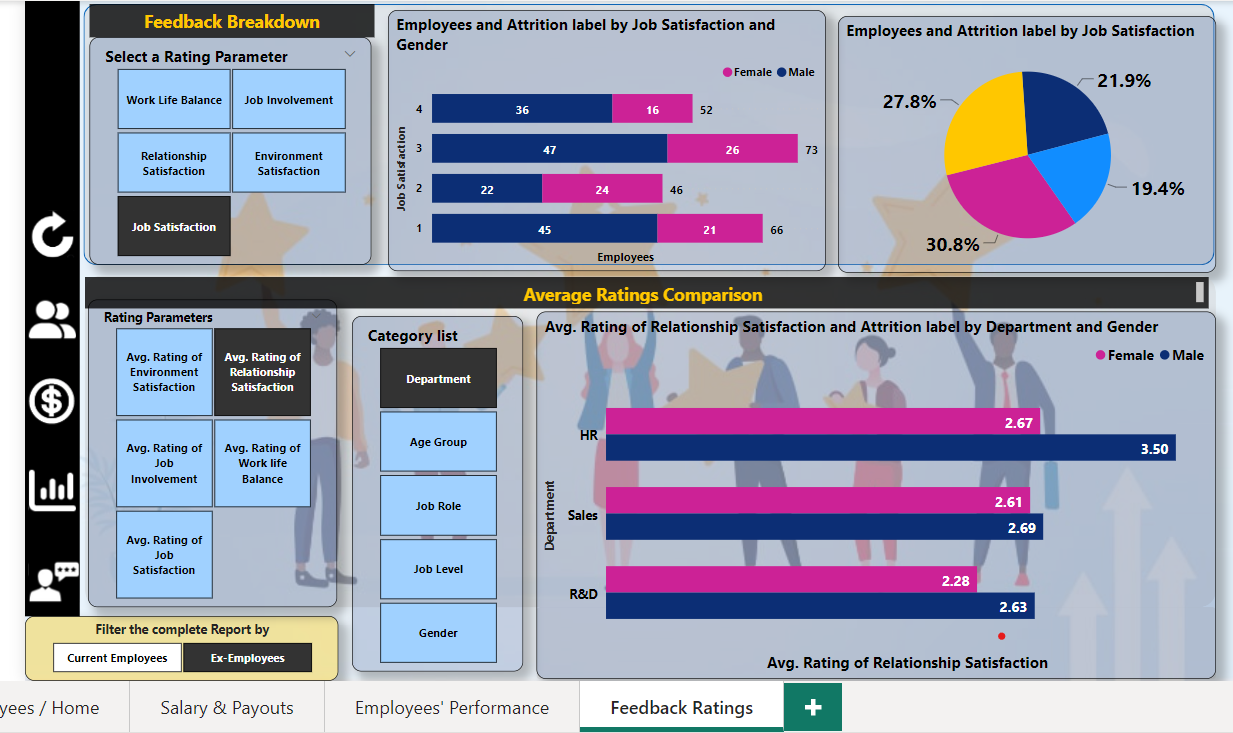

The dashboard page shown, as its layout file describes it:
{"tool":"powerbi","page":{"name":"Feedback Ratings","canvas":[1280,720],"ordinal":3},"visuals":[{"type":"shape","box":[0,0,58.2,652],"z":0,"group":"g4"},{"type":"shape","box":[62,3.2,1198.3,276.7],"z":0,"group":"g3"},{"type":"slicer","fields":{"Values":["Set of Rating Matrices.Set of Rating Matrices"]},"box":[68.8,38.1,298.8,241.6],"z":0,"group":"g2"},{"type":"actionButton","box":[0,215.2,58.2,64.7],"z":0,"group":"g1"},{"type":"slicer","title":"Filter the complete Report by","fields":{"Values":["Employees.attrition label"]},"box":[0,651.7,331.7,68.3],"z":0},{"type":"textbox","box":[68.6,3.2,301.7,35],"z":1000,"group":"g3"},{"type":"pieChart","fields":{"Category":["Ratings.Work Life Balance (Rating)"],"Y":["Measures Table.#1 Total Employees"]},"box":[862.2,15,400.5,271.8],"z":1000,"group":"g2"},{"type":"group","id":"g1","title":"Group 6","box":[0,215.2,69.6,432],"z":1000,"group":"g4"},{"type":"actionButton","box":[0,309,58.2,58.2],"z":1000,"group":"g1"},{"type":"shape","box":[542.3,642.6,720,76.7],"z":1000,"group":"g5"},{"type":"group","id":"g2","title":"Group 1","box":[68.8,9.2,1193.9,277.6],"z":2000,"group":"g3"},{"type":"barChart","fields":{"Category":["Ratings.Work Life Balance (Rating)"],"Y":["Measures Table.#1 Total Employees"],"Series":["Employees.Gender"]},"box":[385.4,9.2,464.1,276.6],"z":2000,"group":"g2"},{"type":"shape","box":[64,290.9,1198.3,351.7],"z":2000,"group":"g5"},{"type":"actionButton","box":[0,396.4,58.2,56.6],"z":2000,"group":"g1"},{"type":"actionButton","box":[0,482.2,58.2,74.4],"z":3000,"group":"g1"},{"type":"group","id":"g3","title":"Feedback Breakdown","box":[62,3.2,1200.8,283.6],"z":4000},{"type":"actionButton","box":[0,585.7,69.6,61.5],"z":4000,"group":"g1"},{"type":"slicer","fields":{"Values":["#Parameter- Avg Ratings.#Parameter- Avg Ratings"]},"box":[66.7,316.2,263.8,325.8],"z":5000,"group":"g5"},{"type":"group","id":"g4","title":"Navigation Bar #group","box":[0,0,69.6,652],"z":6000},{"type":"slicer","fields":{"Values":["#Parameter- Category list.#Parameter- Category list"]},"box":[347.2,334,181.2,376.7],"z":7000,"group":"g5"},{"type":"clusteredBarChart","fields":{"Category":["Employees.Department"],"Y":["Measures Table.**Rating avg- Environment Satisfaction"],"Series":["Employees.Gender"]},"box":[542,329,720,389.4],"z":8000,"group":"g5"},{"type":"textbox","box":[63.6,292.3,1190.5,33],"z":9000,"group":"g5"},{"type":"group","id":"g5","title":"Group 2","box":[63.6,290.9,1198.7,428.3],"z":9001}]}

Visuals, with their boxes on the page's 1280x720 design canvas (x1, y1, x2, y2). These are canvas units, not pixel positions in the 1233x733 screenshot, which may show the page scaled, cropped or inside an application window:
shape: Rect(0, 0, 58, 652)
shape: Rect(62, 3, 1260, 280)
slicer - Set of Rating Matrices.Set of Rating Matrices: Rect(69, 38, 368, 280)
actionButton: Rect(0, 215, 58, 280)
"Filter the complete Report by" slicer: Rect(0, 652, 332, 720)
textbox: Rect(69, 3, 370, 38)
pieChart - Ratings.Work Life Balance (Rating) x Measures Table.#1 Total Employees: Rect(862, 15, 1263, 287)
"Group 6" group: Rect(0, 215, 70, 647)
actionButton: Rect(0, 309, 58, 367)
shape: Rect(542, 643, 1262, 719)
"Group 1" group: Rect(69, 9, 1263, 287)
barChart - Ratings.Work Life Balance (Rating) x Measures Table.#1 Total Employees: Rect(385, 9, 850, 286)
shape: Rect(64, 291, 1262, 643)
actionButton: Rect(0, 396, 58, 453)
actionButton: Rect(0, 482, 58, 557)
"Feedback Breakdown" group: Rect(62, 3, 1263, 287)
actionButton: Rect(0, 586, 70, 647)
slicer - #Parameter- Avg Ratings.#Parameter- Avg Ratings: Rect(67, 316, 330, 642)
"Navigation Bar #group" group: Rect(0, 0, 70, 652)
slicer - #Parameter- Category list.#Parameter- Category list: Rect(347, 334, 528, 711)
clusteredBarChart - Employees.Department x Measures Table.**Rating avg- Environment Satisfaction: Rect(542, 329, 1262, 718)
textbox: Rect(64, 292, 1254, 325)
"Group 2" group: Rect(64, 291, 1262, 719)
